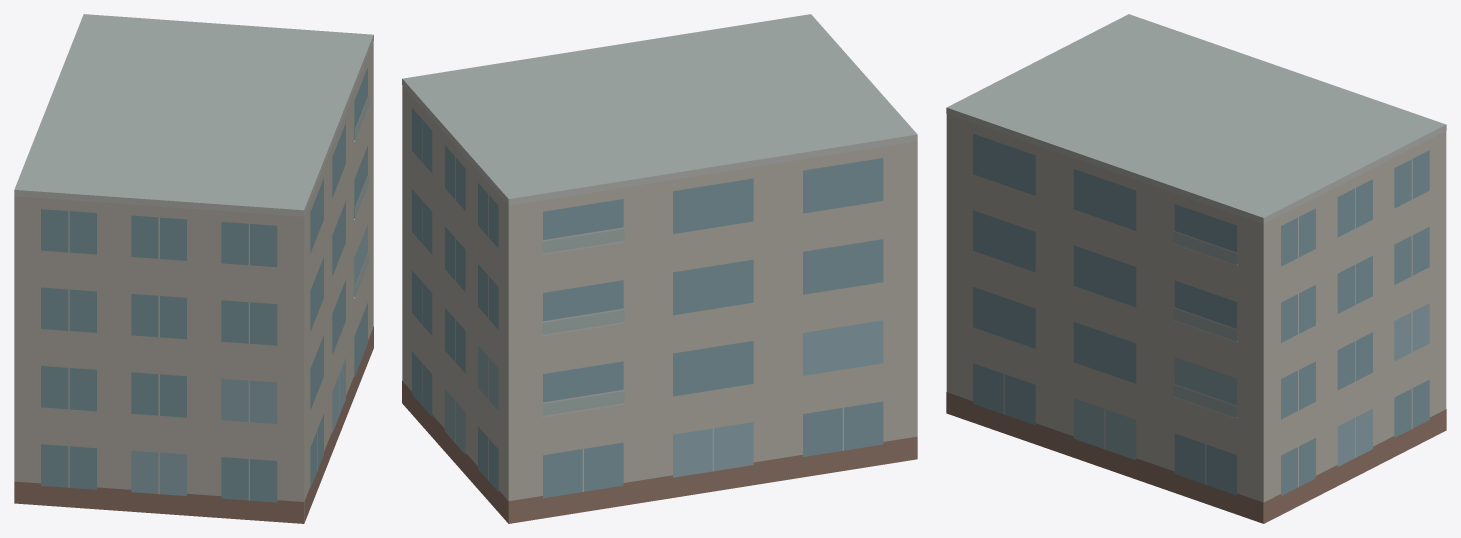
Rendered from residential-b000afc5-11a4-4fdb-94f3-0b5771855533.glb.
3 renders of one model, left to right at view 1: azimuth 30°, elevation 25°; view 2: azimuth 150°, elevation 25°; view 3: azimuth 270°, elevation 25°, orthographic. The views are drawn at different scales.
Parts seen in each view (by area): view 1: residential-b000afc5-11a4-4fdb-94f3-0b5771855533.tmp; view 2: residential-b000afc5-11a4-4fdb-94f3-0b5771855533.tmp; view 3: residential-b000afc5-11a4-4fdb-94f3-0b5771855533.tmp.
Boxes of the visible parts, x1,y1,x2,y2 form: residential-b000afc5-11a4-4fdb-94f3-0b5771855533.tmp: (14,14,373,523); residential-b000afc5-11a4-4fdb-94f3-0b5771855533.tmp: (402,14,917,523); residential-b000afc5-11a4-4fdb-94f3-0b5771855533.tmp: (946,14,1446,523).
Bounding box in the file's own units: 17.46 × 12.2 × 18.08.
